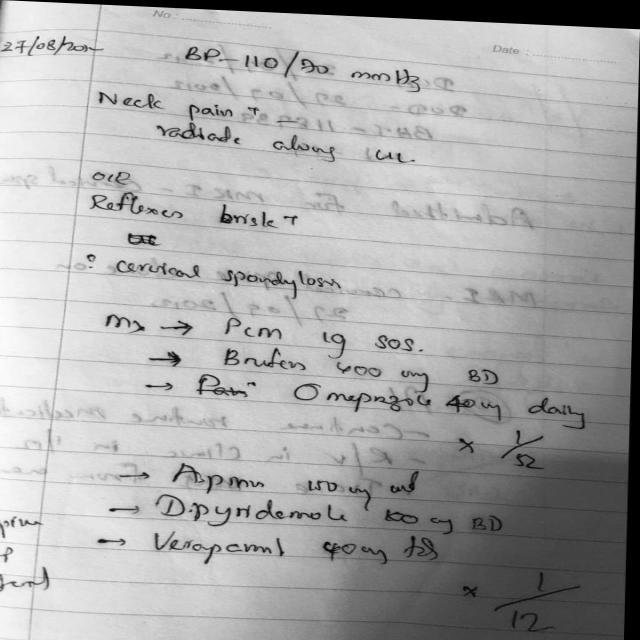Prescription: (148, 522, 578, 632), (290, 378, 593, 472), (156, 486, 510, 534), (226, 344, 509, 382), (172, 458, 426, 500), (219, 309, 433, 349)
